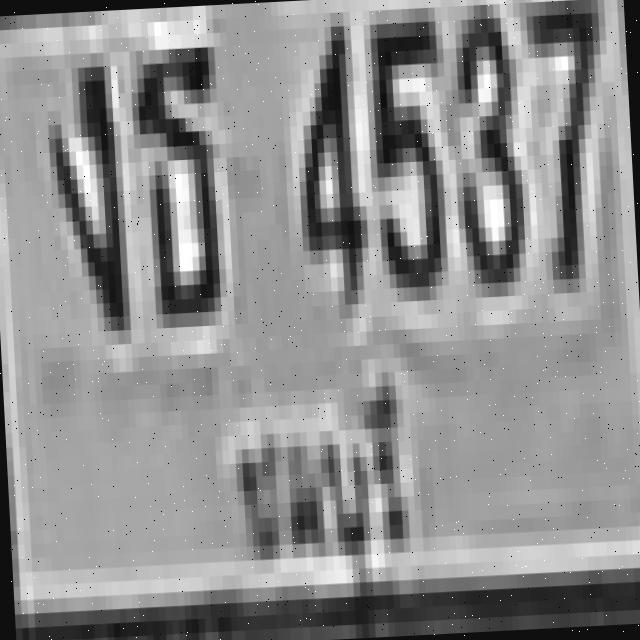16NgorNgu: (44, 52, 124, 320)
3: (447, 0, 520, 277)
33ThorThong: (128, 34, 222, 316)
4: (288, 12, 360, 293)
5: (366, 8, 446, 290)
7: (521, 0, 608, 280)
Chonburi: (218, 368, 427, 593)
